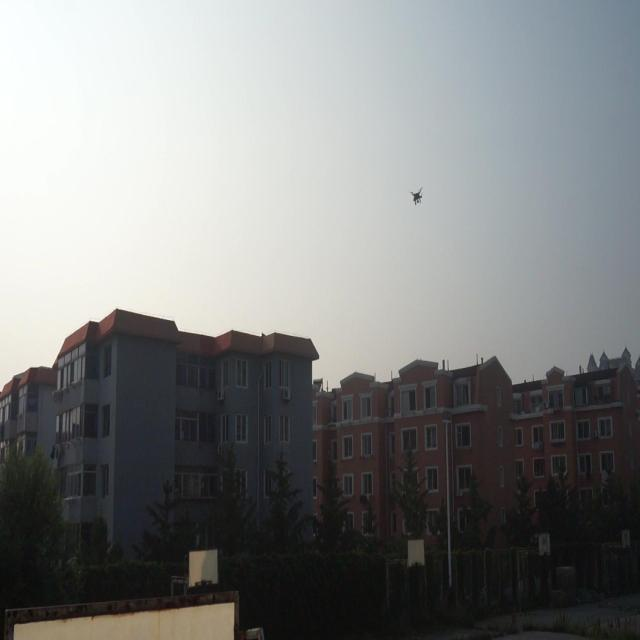drone: (409, 182, 427, 208)
